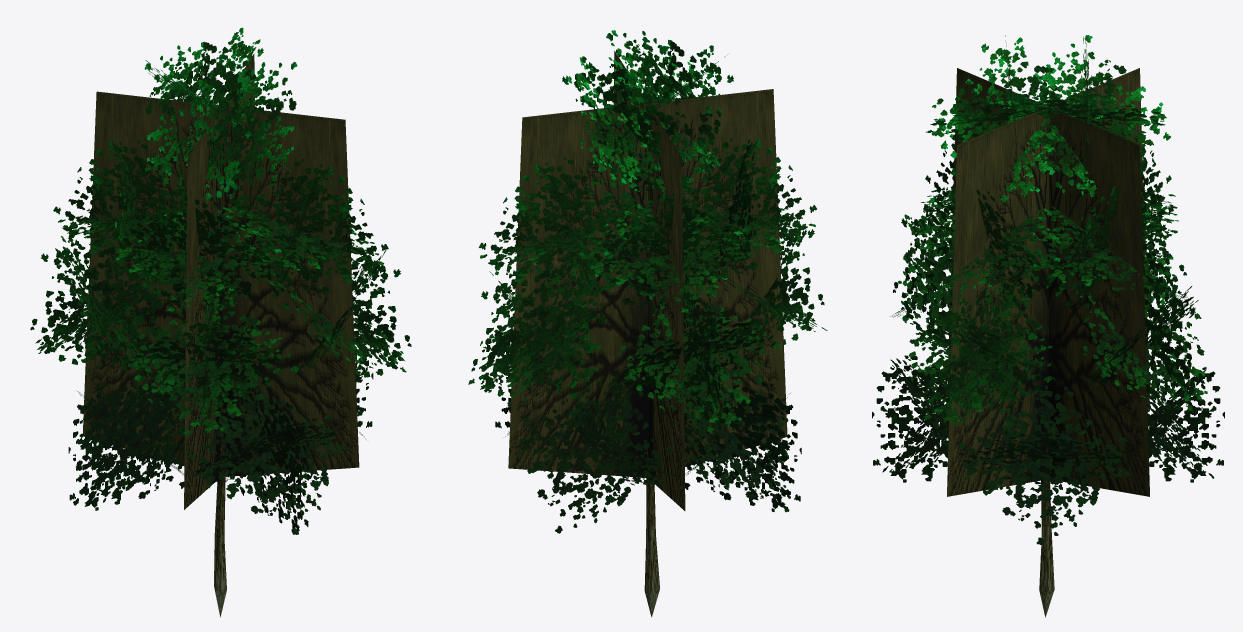
The model's file is els_1.fbx.
3 views of the same model, side by side, from view 1: azimuth 30°, elevation 25°; view 2: azimuth 150°, elevation 25°; view 3: azimuth 270°, elevation 25° (orthographic).
Visible parts, largest first — view 1: els_1; view 2: els_1; view 3: els_1.
Part boxes in pixels (x1,y1,x2,y2): els_1: (30,27,411,617); els_1: (468,30,827,617); els_1: (872,35,1224,617).
Size of the model in its own units: 371 by 648 by 371.
